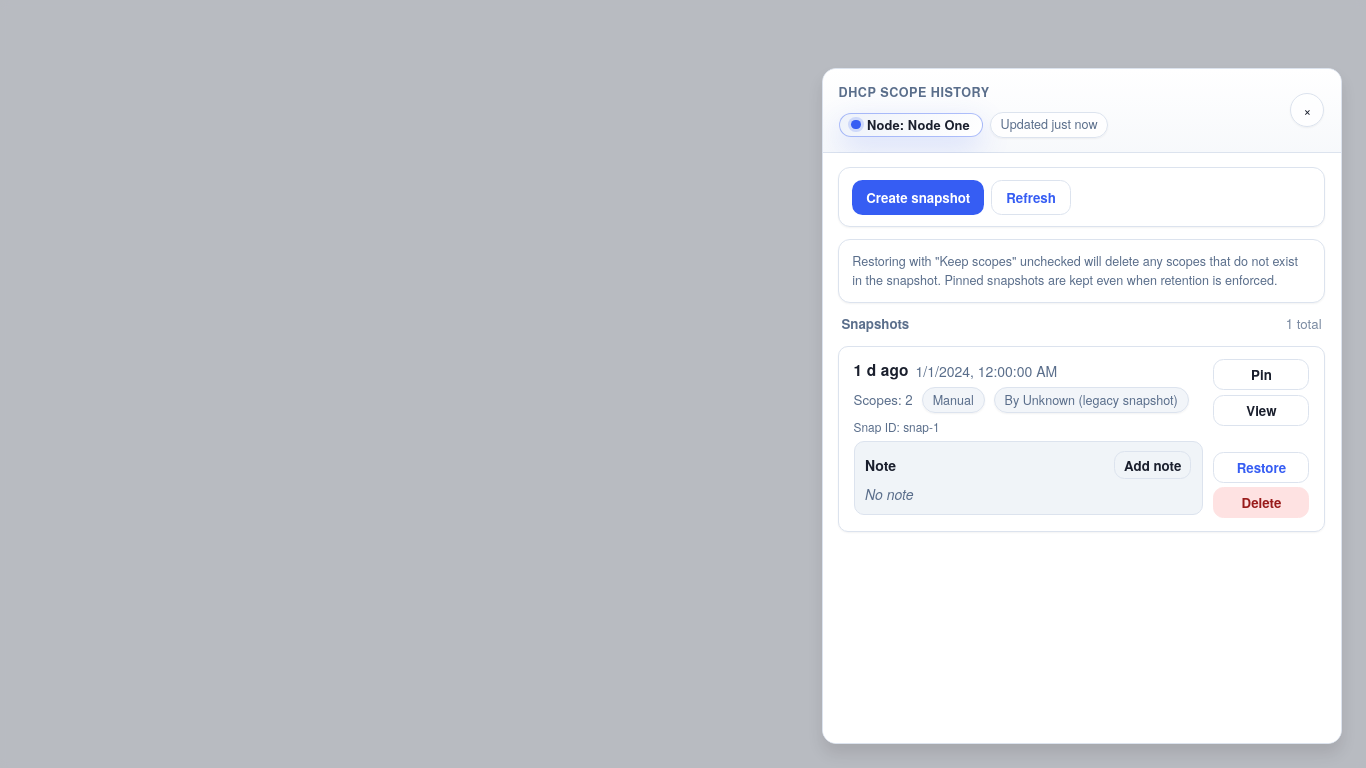
Test: DhcpSnapshotDrawer › resets keep extras to true when reopening the restore dialog
What coordinates should you click on to do the following:
click the button "Restore"
I would click on:
 (1261, 467)
Its box is [1213,452,1309,483].
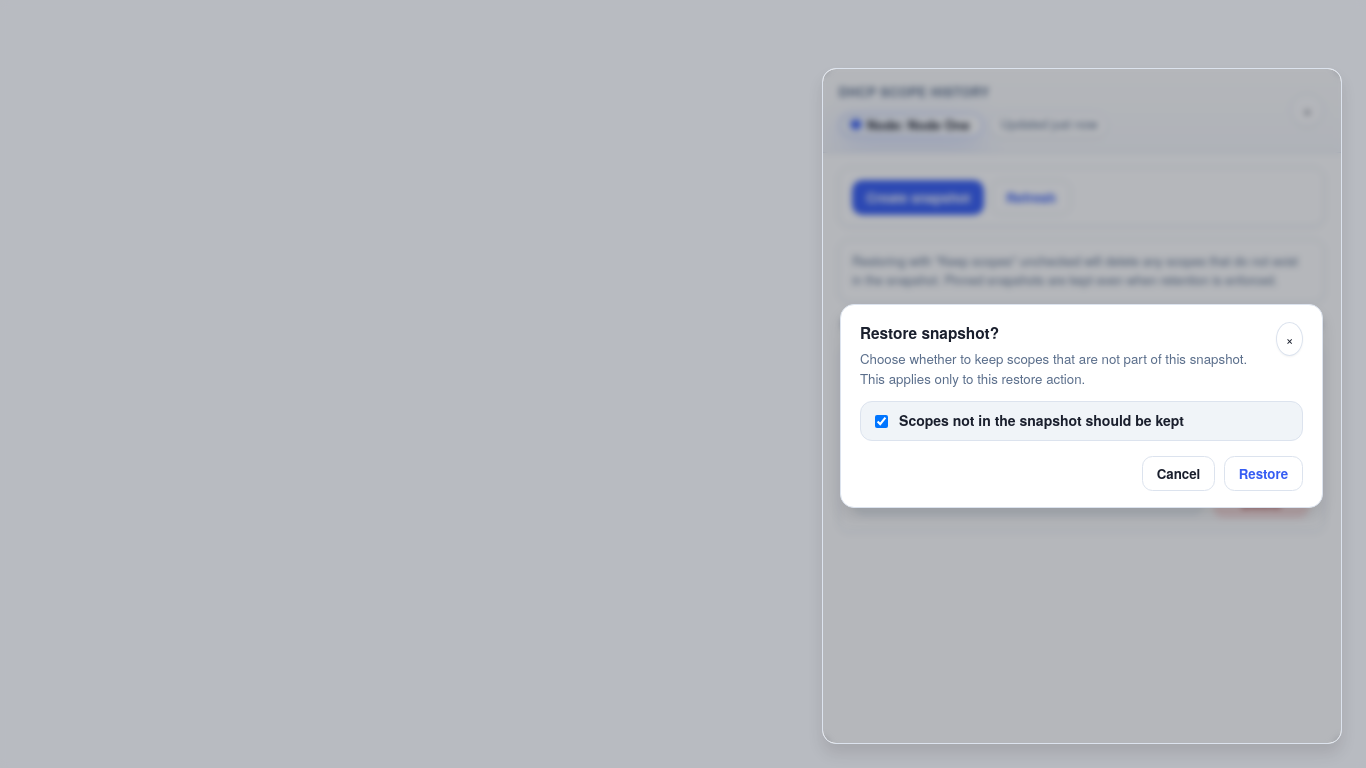
expect the checkbox labelled "Scopes not in the snapshot should be kept" is checked: met
What coordinates should you click on to do the following:
click the checkbox labelled "Scopes not in the snapshot should be kept"
I would click on:
 (882, 421)
Its box is [875,415,888,428].
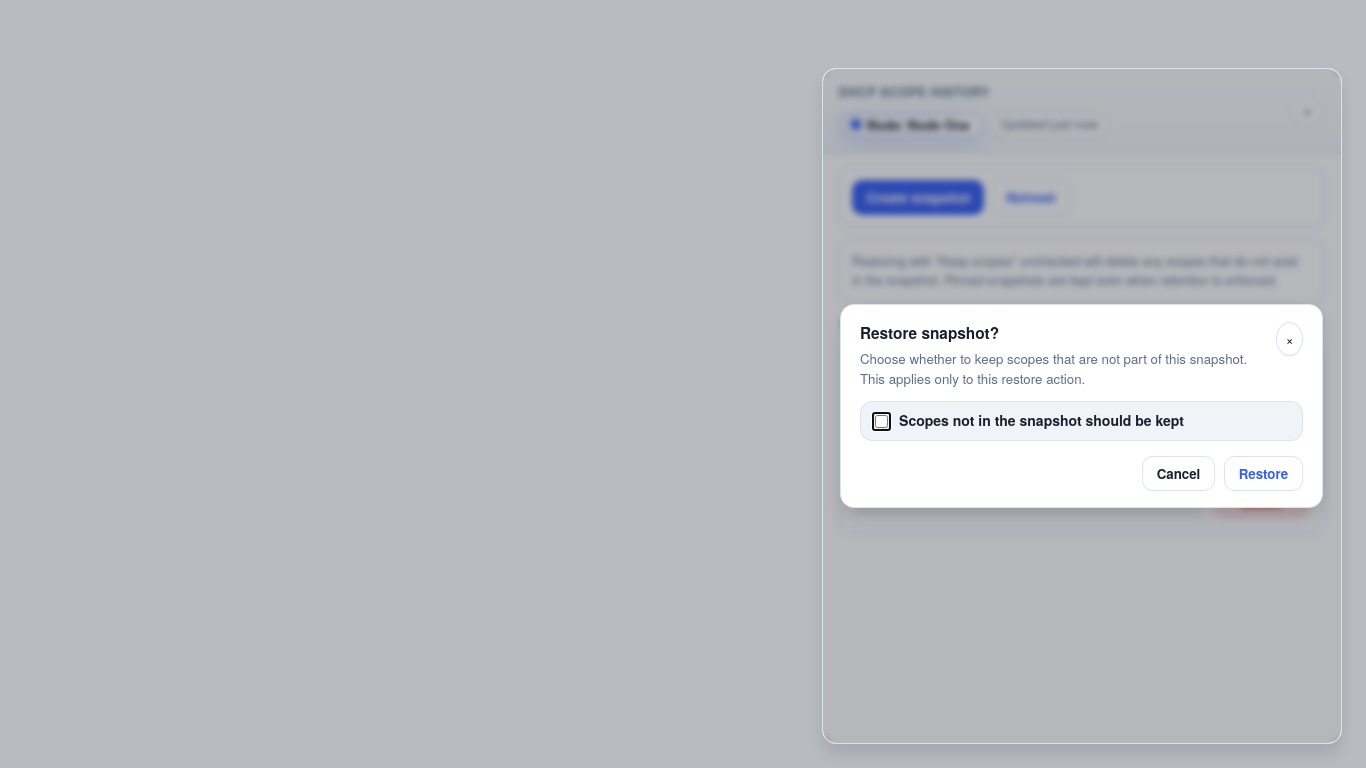
expect the checkbox labelled "Scopes not in the snapshot should be kept" is not checked: met, box [875,415,888,428]
What coordinates should you click on to do the following:
click the button "Cancel"
I would click on:
 (1178, 474)
Its box is [1142,456,1215,491].
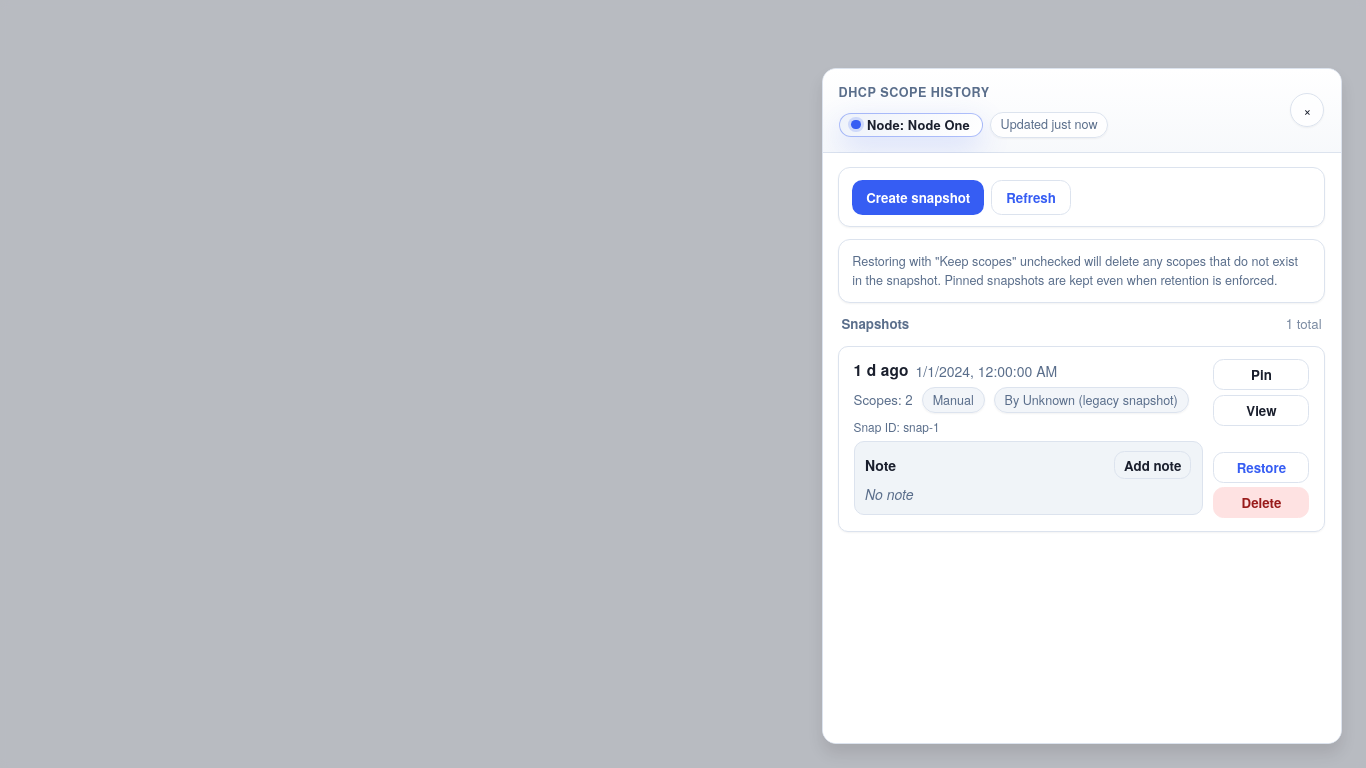
What coordinates should you click on to do the following:
click the button "Restore"
I would click on:
 (1261, 467)
Its box is [1213,452,1309,483].
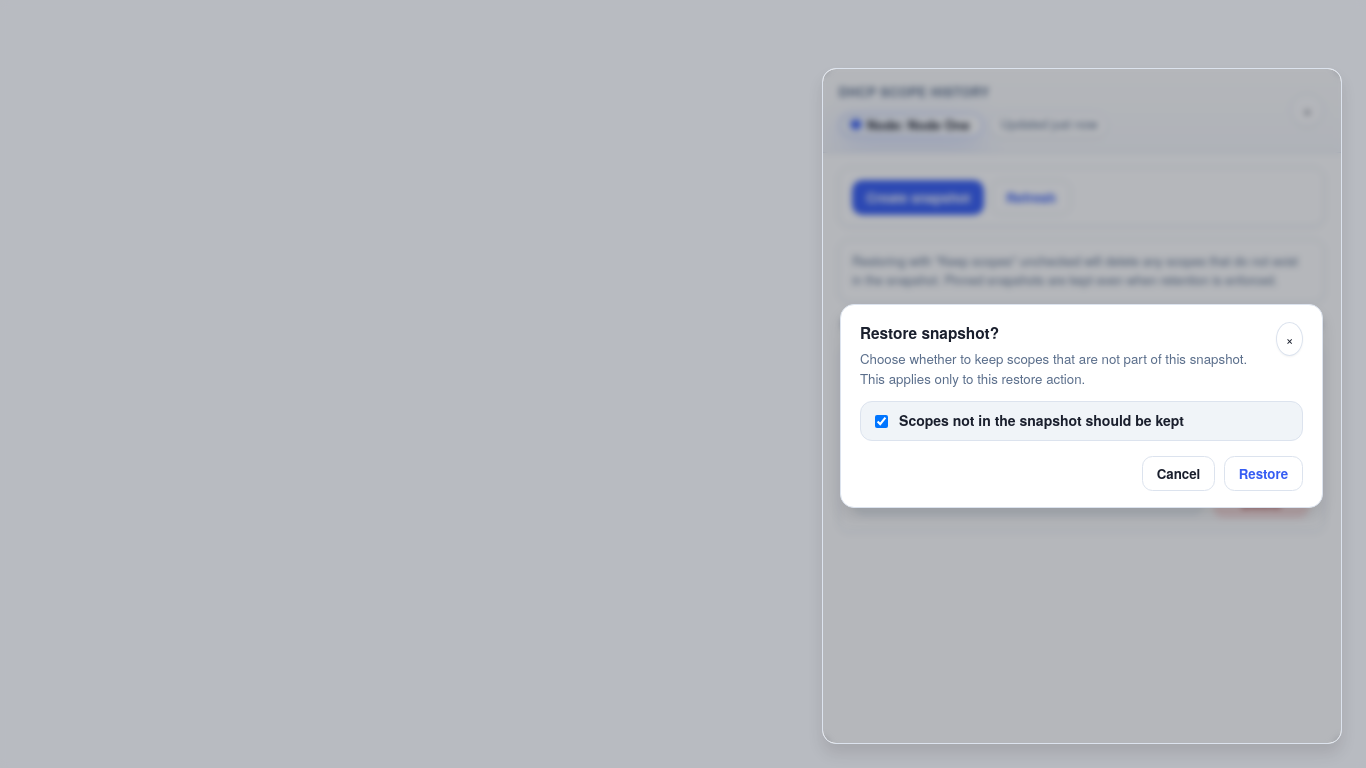
expect the checkbox labelled "Scopes not in the snapshot should be kept" is checked: met, box [875,415,888,428]
